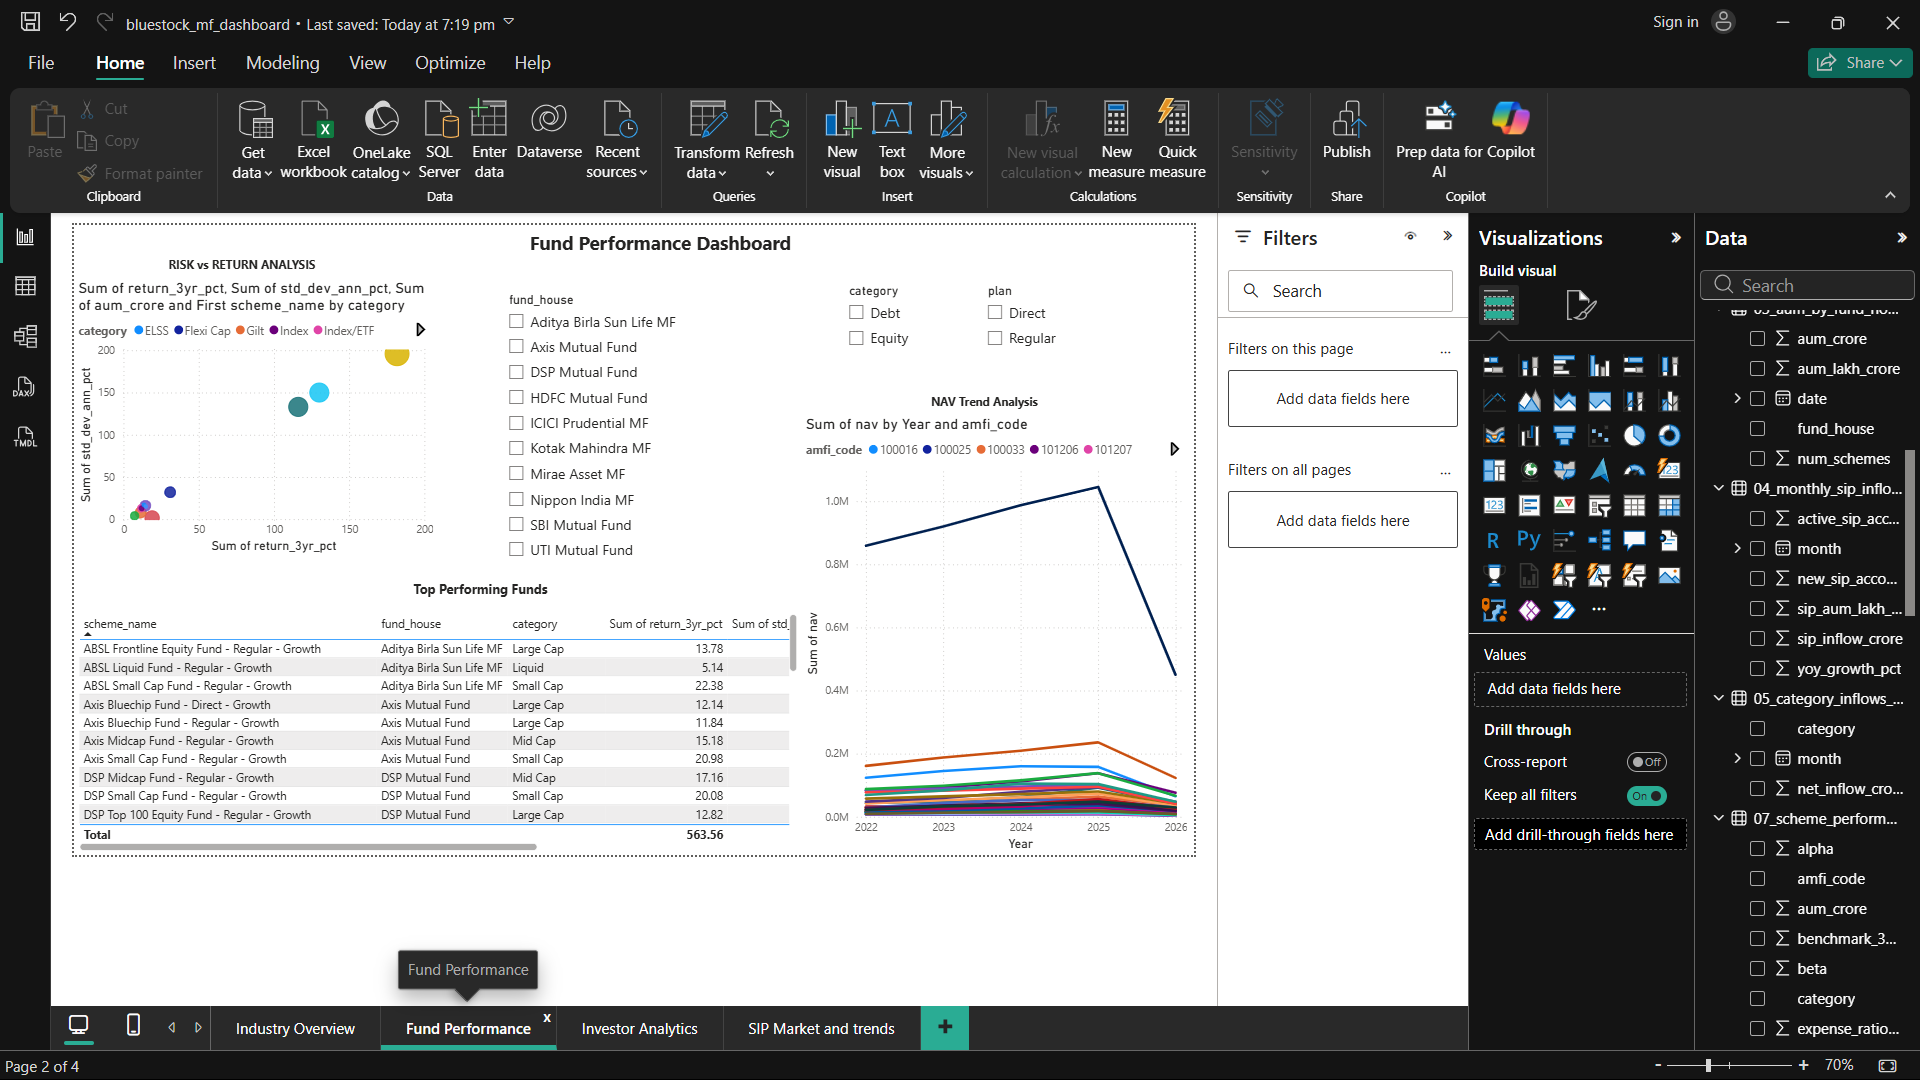

This screenshot's page, from the dashboard's own definition file:
{"tool":"powerbi","page":{"name":"Fund Performance","canvas":[1280,720],"ordinal":1},"visuals":[{"type":"scatterChart","fields":{"X":["Sum(07_scheme_performance_clean.return_3yr_pct)"],"Y":["Sum(07_scheme_performance_clean.std_dev_ann_pct)"],"Size":["Sum(07_scheme_performance_clean.aum_crore)"],"Series":["07_scheme_performance_clean.category"]},"box":[0,61.4,415.7,318.6],"z":0},{"type":"tableEx","fields":{"Values":["07_scheme_performance_clean.scheme_name","07_scheme_performance_clean.fund_house","07_scheme_performance_clean.category","Sum(07_scheme_performance_clean.return_3yr_pct)","Sum(07_scheme_performance_clean.std_dev_ann_pct)","Sum(07_scheme_performance_clean.aum_crore)","Sum(fund_scorecard.cagr_score)","Sum(fund_scorecard.alpha_score)"]},"box":[0,440,831.4,280],"z":1000},{"type":"lineChart","fields":{"Category":["02_nav_history_clean.date.Variation.Date Hierarchy.Year","02_nav_history_clean.date.Variation.Date Hierarchy.Quarter","02_nav_history_clean.date.Variation.Date Hierarchy.Month","02_nav_history_clean.date.Variation.Date Hierarchy.Day"],"Y":["Sum(02_nav_history_clean.nav)"],"Series":["02_nav_history_clean.amfi_code"]},"box":[831.4,217.1,445.7,502.9],"z":2000},{"type":"textbox","box":[102.9,31.4,178.6,30],"z":3000},{"type":"textbox","box":[974.3,187.1,160,30],"z":4000},{"type":"slicer","fields":{"Values":["01_fund_master_clean.category"]},"box":[872.9,61.4,127.1,90],"z":5000},{"type":"slicer","fields":{"Values":["01_fund_master_clean.plan"]},"box":[1031.4,61.4,120,90],"z":6000},{"type":"slicer","fields":{"Values":["01_fund_master_clean.fund_house"]},"box":[484.3,71.4,222.9,330],"z":7000},{"type":"textbox","box":[515.7,0,314.3,42.9],"z":8000},{"type":"textbox","box":[382.9,401.4,202.9,38.6],"z":9000}]}

Visuals, with their boxes on the page's 1280x720 design canvas (x1, y1, x2, y2). These are canvas units, not pixel positions in the 1920x1080 screenshot, which may show the page scaled, cropped or inside an application window:
scatterChart - Sum(07_scheme_performance_clean.return_3yr_pct) x Sum(07_scheme_performance_clean.std_dev_ann_pct): <box>0,61,416,380</box>
tableEx - 07_scheme_performance_clean.scheme_name x 07_scheme_performance_clean.fund_house: <box>0,440,831,720</box>
lineChart - 02_nav_history_clean.date.Variation.Date Hierarchy.Year x 02_nav_history_clean.date.Variation.Date Hierarchy.Quarter: <box>831,217,1277,720</box>
textbox: <box>103,31,282,61</box>
textbox: <box>974,187,1134,217</box>
slicer - 01_fund_master_clean.category: <box>873,61,1000,151</box>
slicer - 01_fund_master_clean.plan: <box>1031,61,1151,151</box>
slicer - 01_fund_master_clean.fund_house: <box>484,71,707,401</box>
textbox: <box>516,0,830,43</box>
textbox: <box>383,401,586,440</box>
